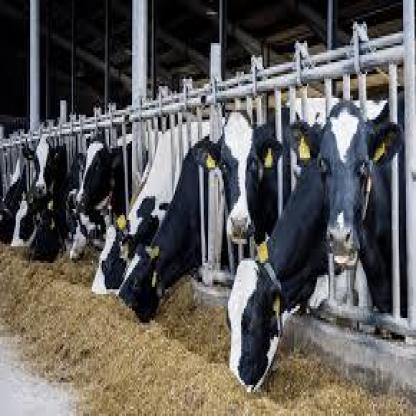cow: (228, 149, 330, 398), (90, 112, 224, 299), (294, 102, 407, 319), (118, 133, 225, 326), (197, 110, 284, 241), (75, 132, 130, 211), (68, 182, 110, 258), (31, 194, 72, 256), (0, 157, 27, 241), (26, 136, 72, 184), (12, 190, 44, 248)
